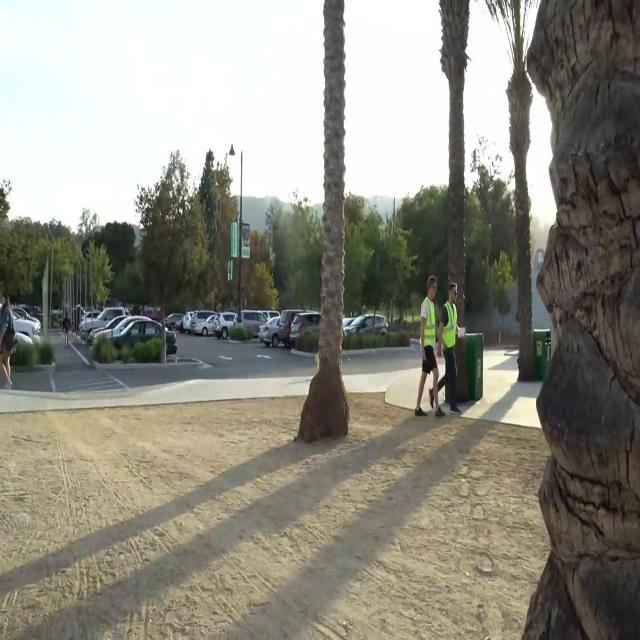vest: (422, 297, 436, 347), (442, 300, 456, 346)
